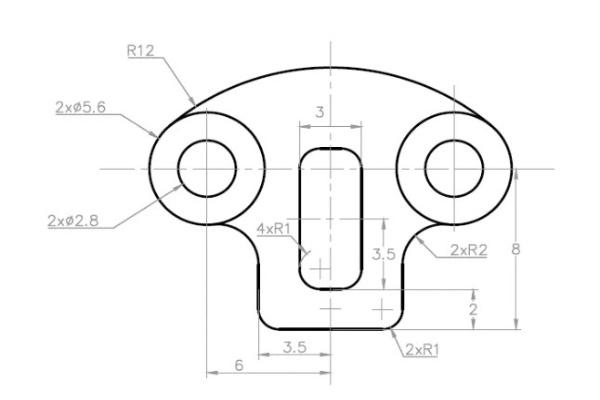dimensions: (42, 208, 104, 233), (48, 94, 112, 116), (114, 39, 164, 61), (448, 239, 496, 260), (252, 216, 295, 238), (400, 340, 444, 358), (278, 336, 316, 356), (370, 242, 398, 266), (227, 356, 252, 373), (506, 237, 524, 258), (465, 299, 482, 320), (313, 101, 329, 120)
